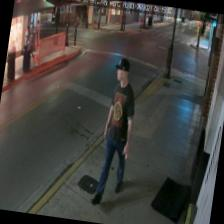person: (88, 56, 141, 208)
